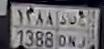1: (17, 8, 23, 47)
3: (24, 5, 34, 48)
8: (44, 8, 53, 49), (35, 8, 44, 48)
D: (57, 14, 66, 48)
J: (78, 14, 86, 49)
N: (68, 12, 76, 48)
